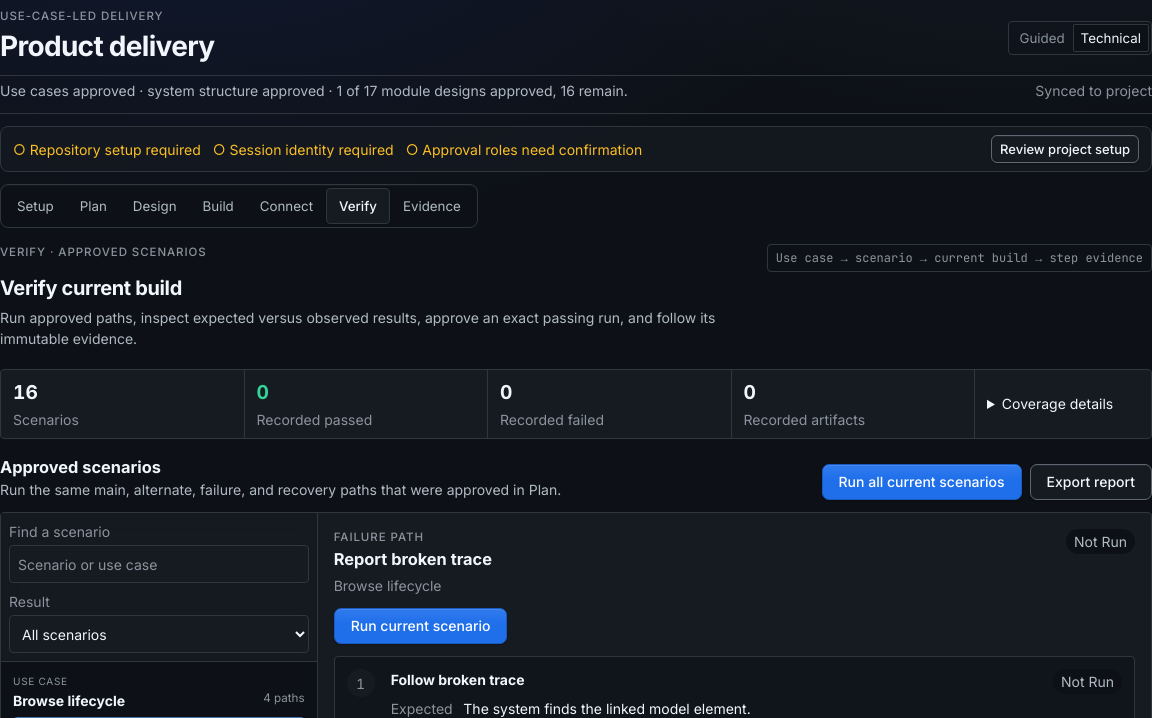
it: project-mode Verify (§14.4, §17.1) — renders getScenarioCoverage / getVerificationEvidence verbatim › shows an honest empty state when there are no scenario runs recorded yet
What coordinates should you click on to do the following:
click the tab "Verify"
I would click on:
 (358, 206)
Its box is x1=326 y1=188 x2=390 y2=224.
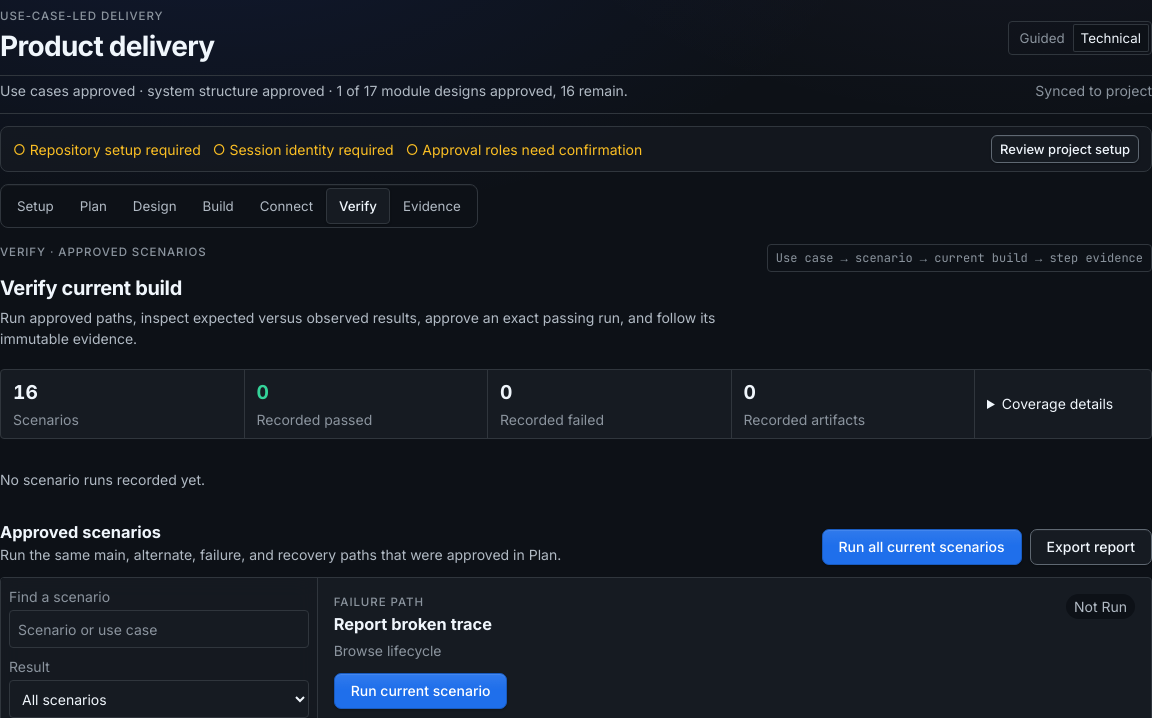
Check: the text "No scenario runs recorded yet." is shown, box x1=0 y1=471 x2=205 y2=488
